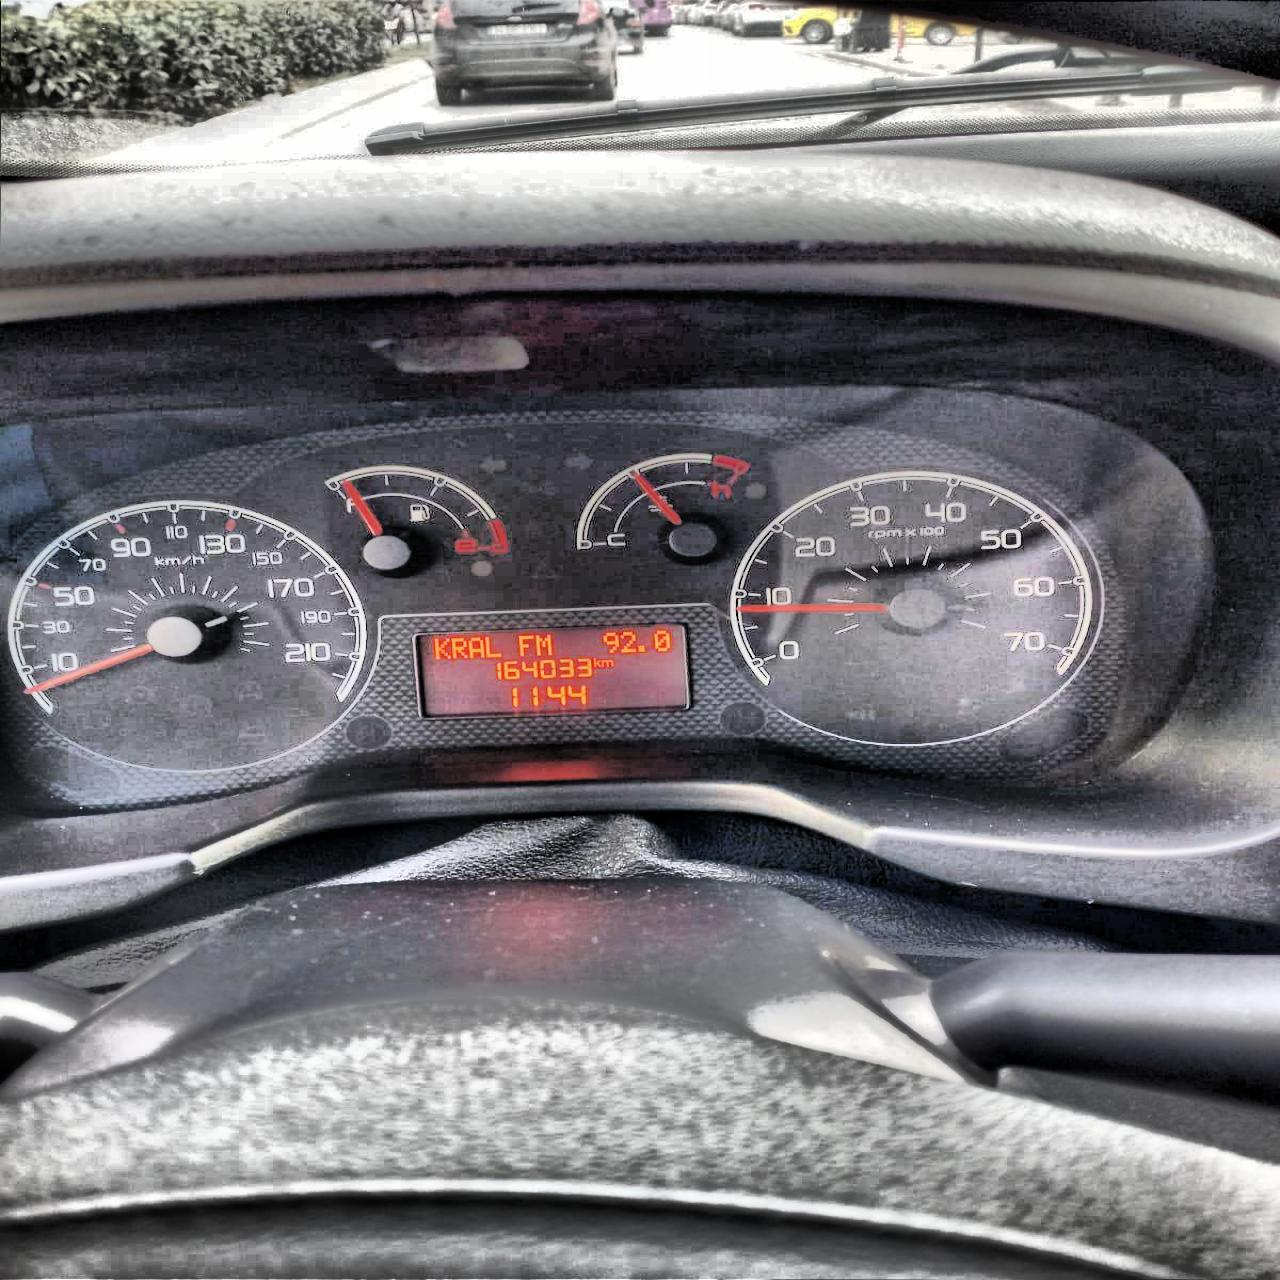-: (637, 643, 646, 654)
0: (651, 628, 673, 652), (538, 658, 556, 678)
1: (526, 683, 542, 708), (506, 683, 522, 708), (490, 660, 502, 679)
2: (620, 628, 636, 654)
3: (555, 657, 575, 678), (575, 656, 591, 678)
4: (566, 683, 588, 705), (544, 684, 565, 706), (520, 659, 536, 680)
6: (504, 659, 520, 680)
9: (600, 630, 618, 654)
X: (483, 634, 504, 658), (432, 636, 450, 660), (534, 633, 552, 656), (450, 635, 467, 659), (467, 636, 484, 658), (516, 634, 532, 656), (600, 658, 616, 668), (592, 655, 601, 669)
odometer: (408, 620, 694, 721)
